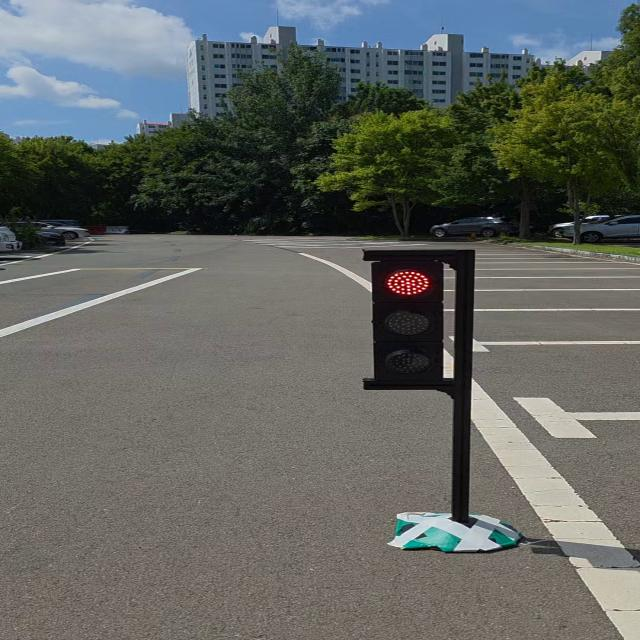red: (356, 251, 467, 390)
